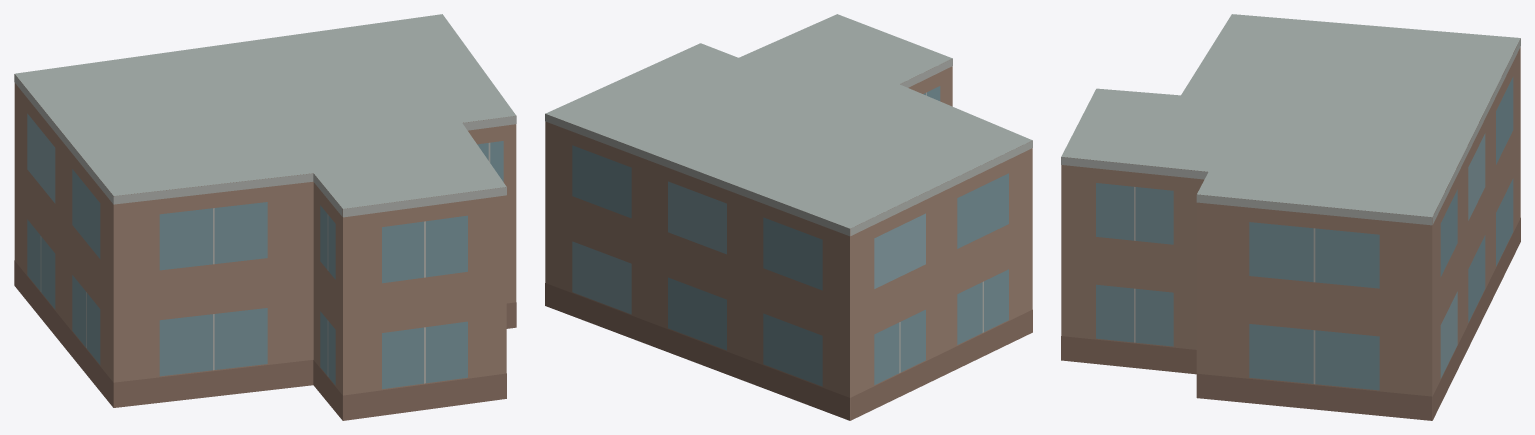
File: survey-upis-32611248.glb
The picture shows the model from 3 angles, left to right: view 1: azimuth 30°, elevation 25°; view 2: azimuth 150°, elevation 25°; view 3: azimuth 270°, elevation 25°; orthographic projection. The views are drawn at different scales.
Visible parts, largest first — view 1: survey-upis-32611248.tmp; view 2: survey-upis-32611248.tmp; view 3: survey-upis-32611248.tmp.
Boxes of the visible parts, x1,y1,x2,y2 form: survey-upis-32611248.tmp: (14, 14, 516, 420); survey-upis-32611248.tmp: (545, 14, 1032, 420); survey-upis-32611248.tmp: (1061, 14, 1520, 420).
Bounding box in the file's own units: 13.07 × 6.1 × 12.49.
